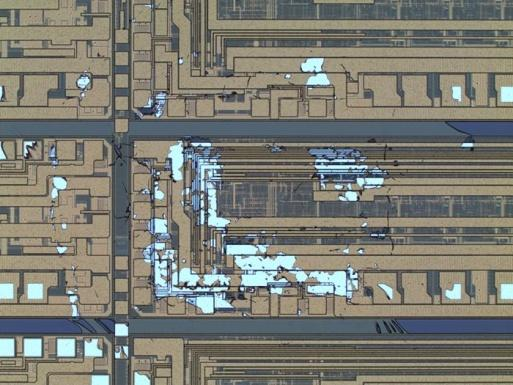COATING BAD: (1, 1, 479, 361)
